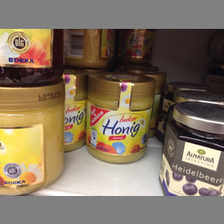honey: (1, 86, 69, 196), (85, 71, 157, 165)
